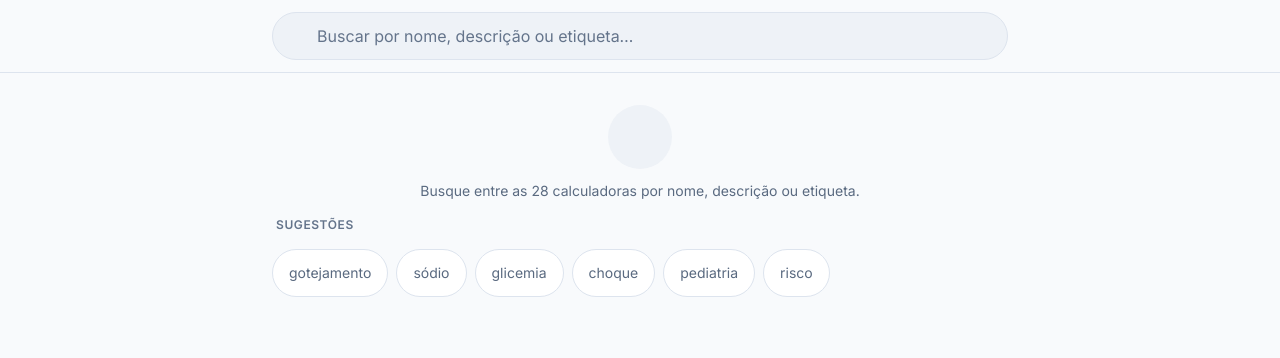
Test case: SearchView › reports the number of matches
Step 1. Type "renal" into the search field with placeholder "Buscar por nome, descrição ou etiqueta…" → coordinates (640, 36), box top-left (272, 12), bottom-right (1008, 60)
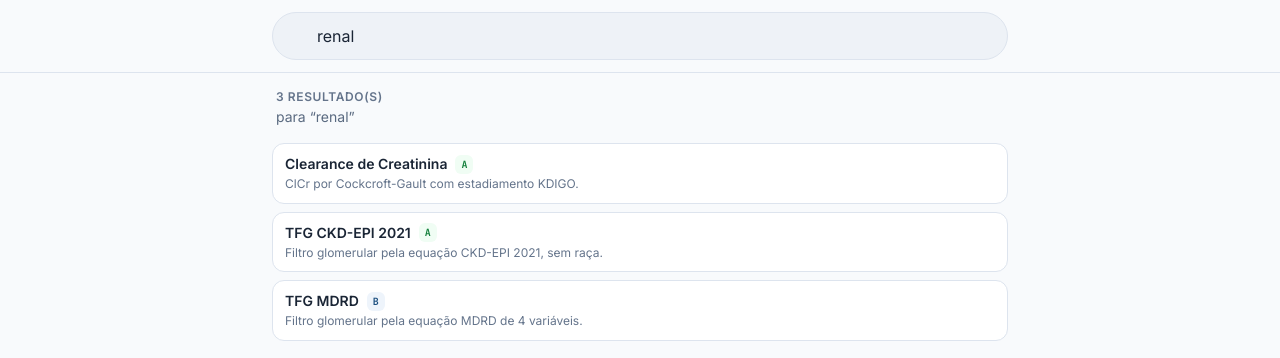
Check: the text "resultado(s)" is shown, box top-left (276, 89), bottom-right (383, 104)
